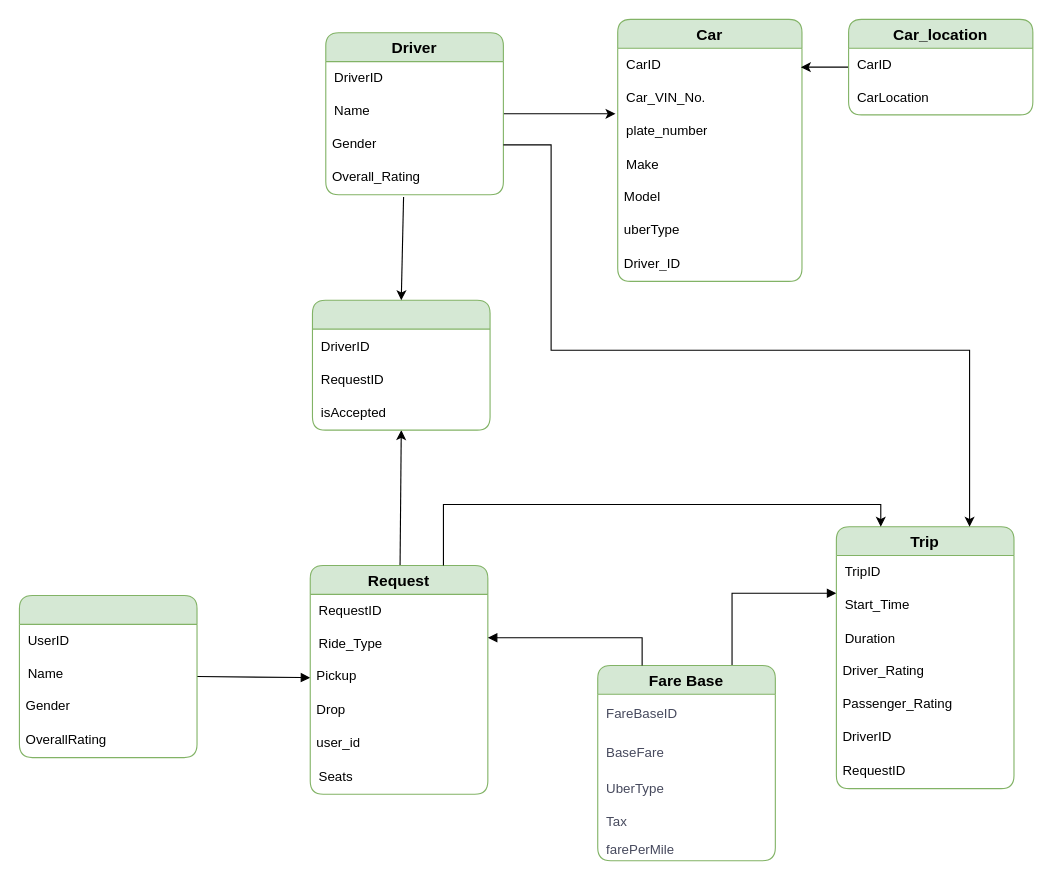
Some shapes in this 1052 by 880 pixel diagram are drawn without their labels. The box of each missing label's shape, as (x1, y1, x2, y2) in pixels:
Passenger: (18, 594, 197, 758)
Request_to_Driver: (311, 299, 490, 430)
